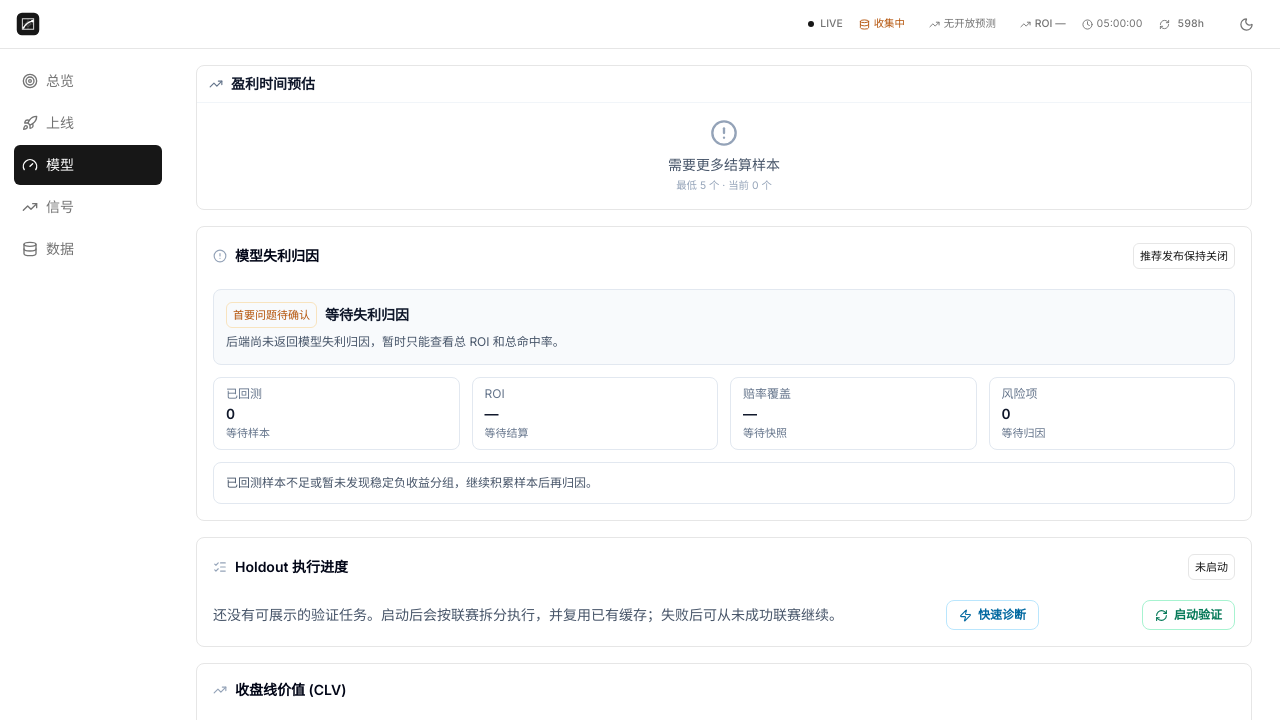
Test: App holdout validation flow › starts a holdout validation job and refreshes the model page into pending progress
This screenshot has width=1280, height=720.
What coordinates should you click on to do the following:
click the button "启动验证"
I would click on:
 (1188, 615)
Its box is [1142, 600, 1235, 630].
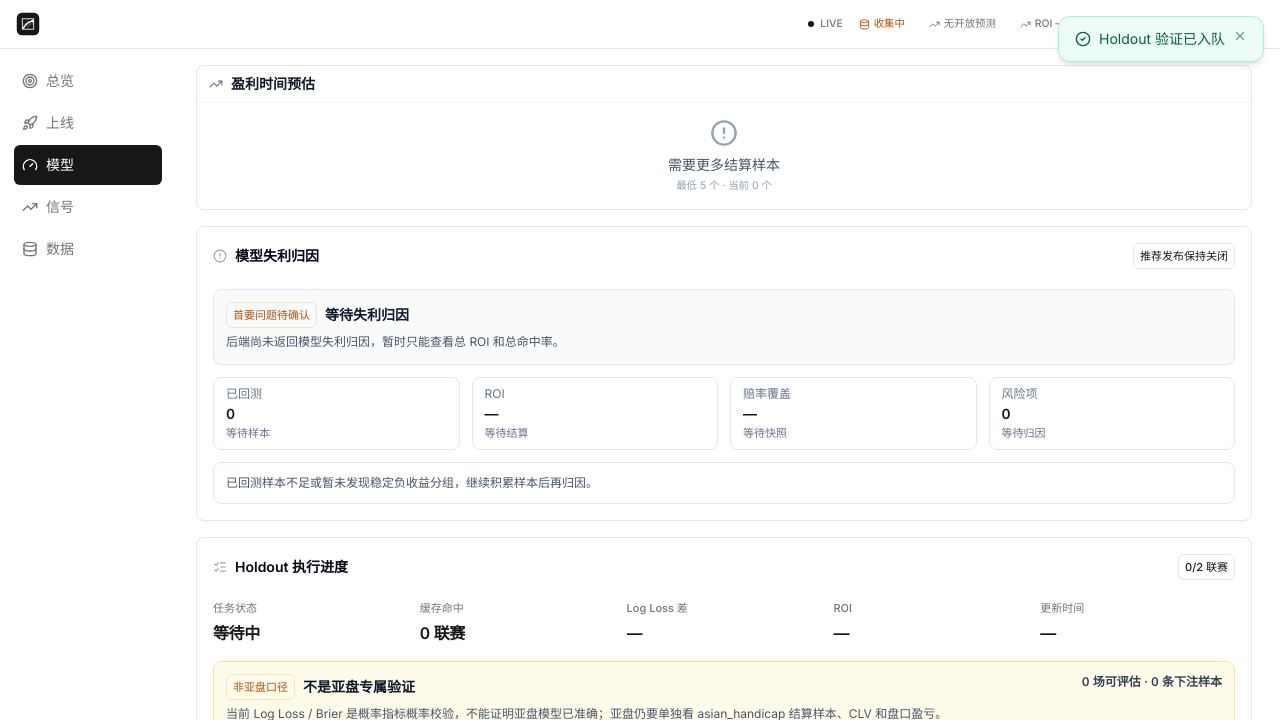
Now the text "等待中" is shown, box [213, 622, 260, 642]
Now the text "Holdout 验证已入队" is shown, box [1099, 29, 1225, 49]
